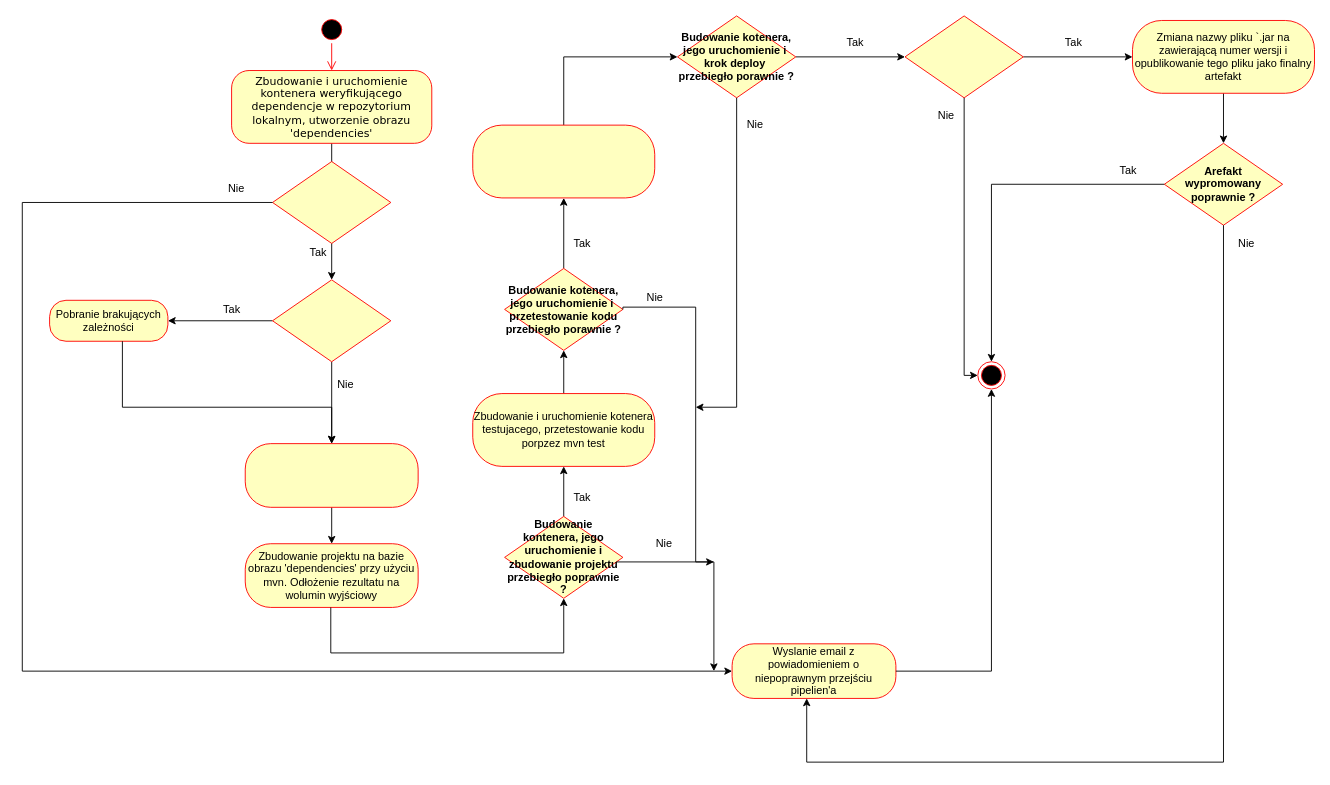
This 1330x785 diagram has some shape labels left out. The centre of each missing label's shape, as x and y in pixels:
"Budowanie i uruchomienie konenera przebiegło poprawnie ?" belongs at (x=331, y=202).
"Istnieją brakujące zależności" belongs at (x=331, y=320).
"Parametr Promote oraz Version zostały zaznaczone ?" belongs at (x=963, y=56).
"Zbudowanie i uruchomienie kontenera budującego" belongs at (x=331, y=475).
"Zbudowanie i uruchomienie kotenera wdrażającego, wykonanie deploya" belongs at (x=563, y=161).
